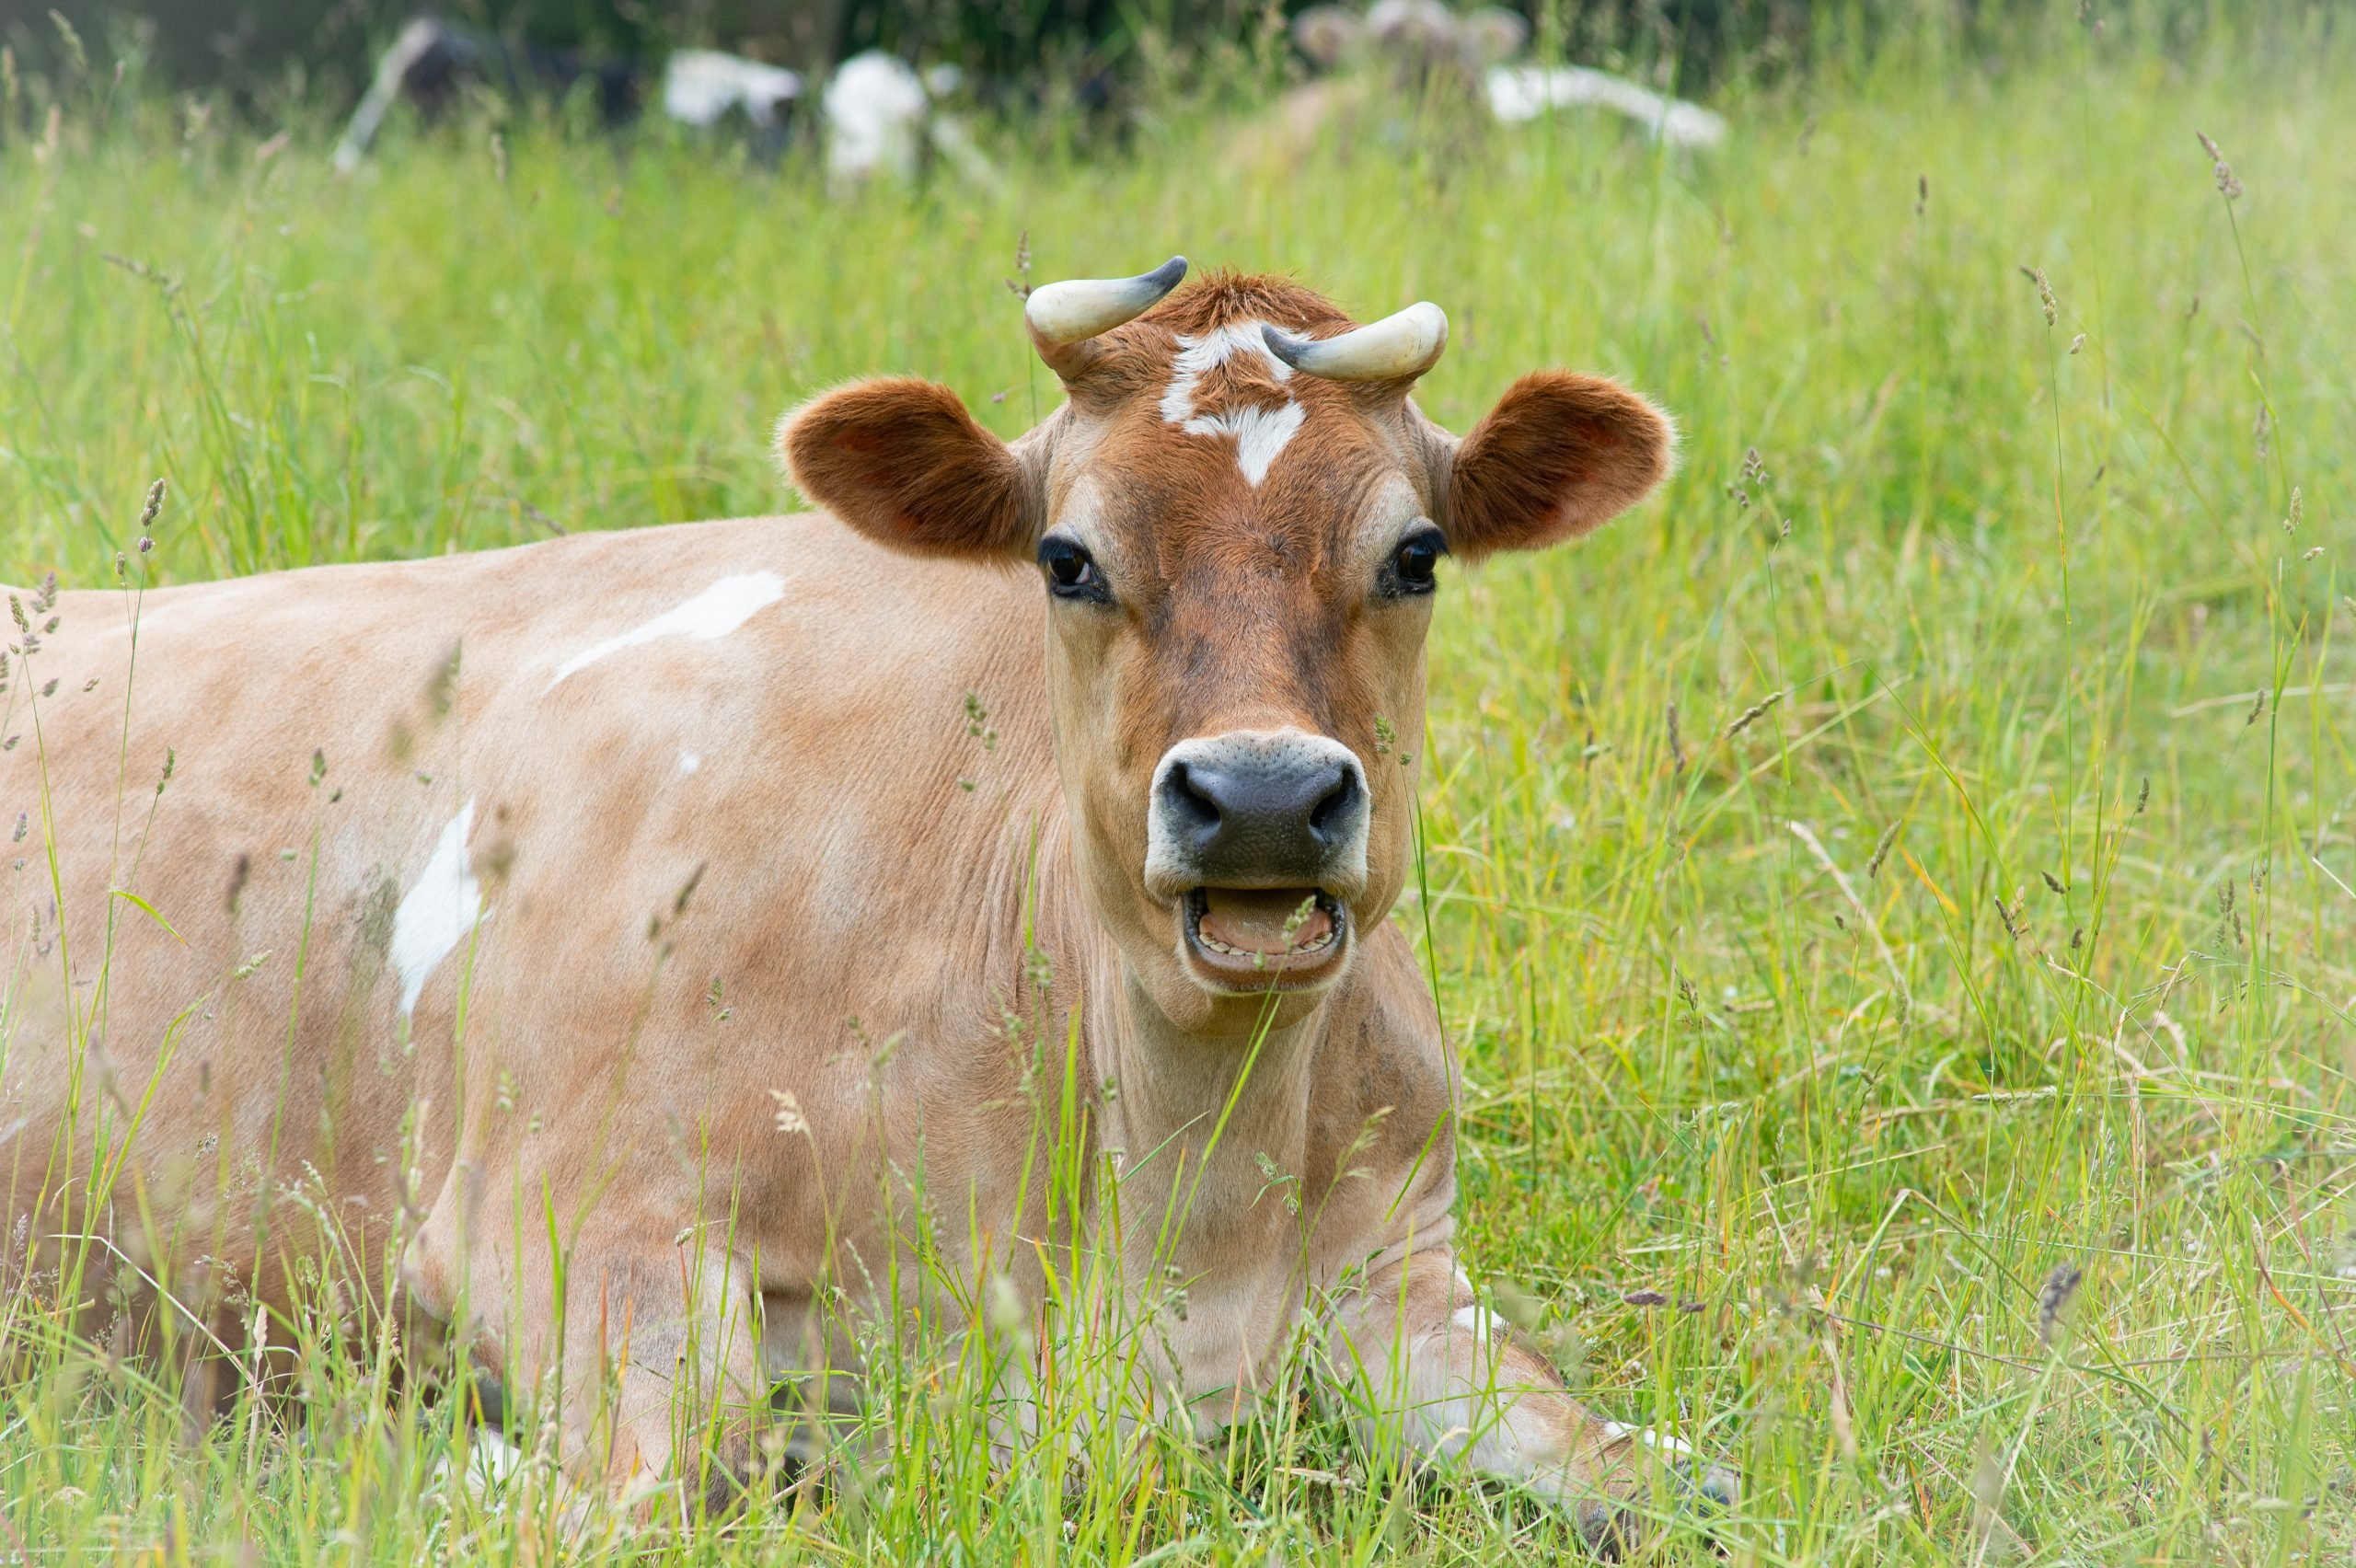camel: (58, 245, 1799, 1528)
